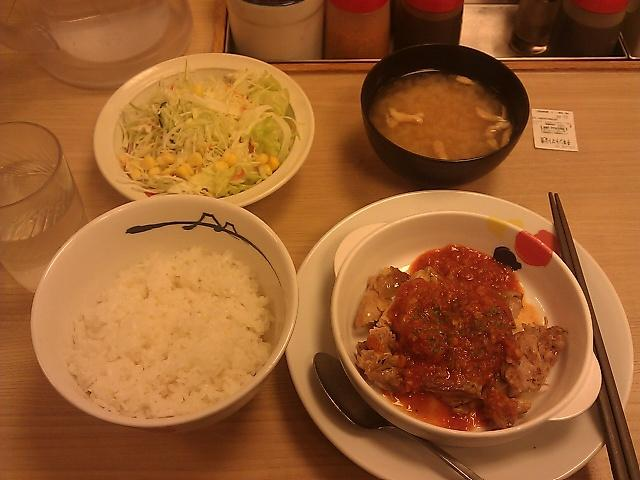plate: (94, 53, 314, 206)
rice: (66, 247, 277, 418), (120, 70, 297, 198)
